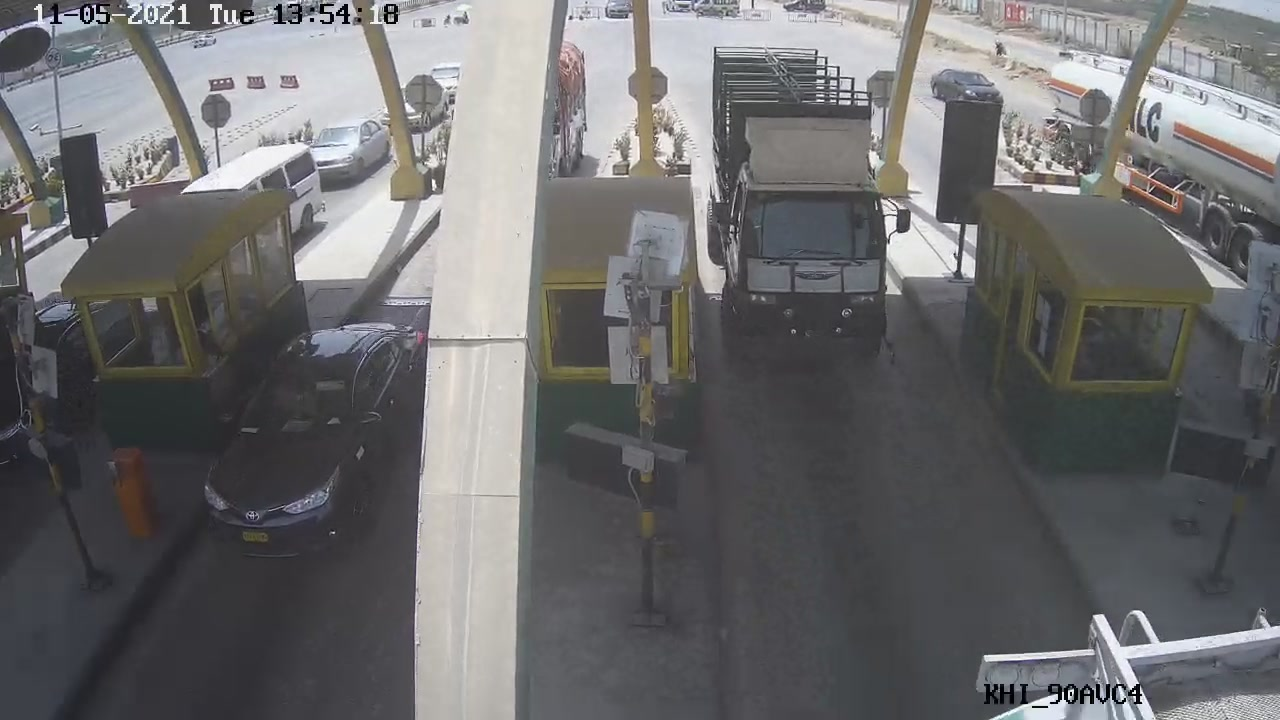F5: (698, 34, 896, 354)
